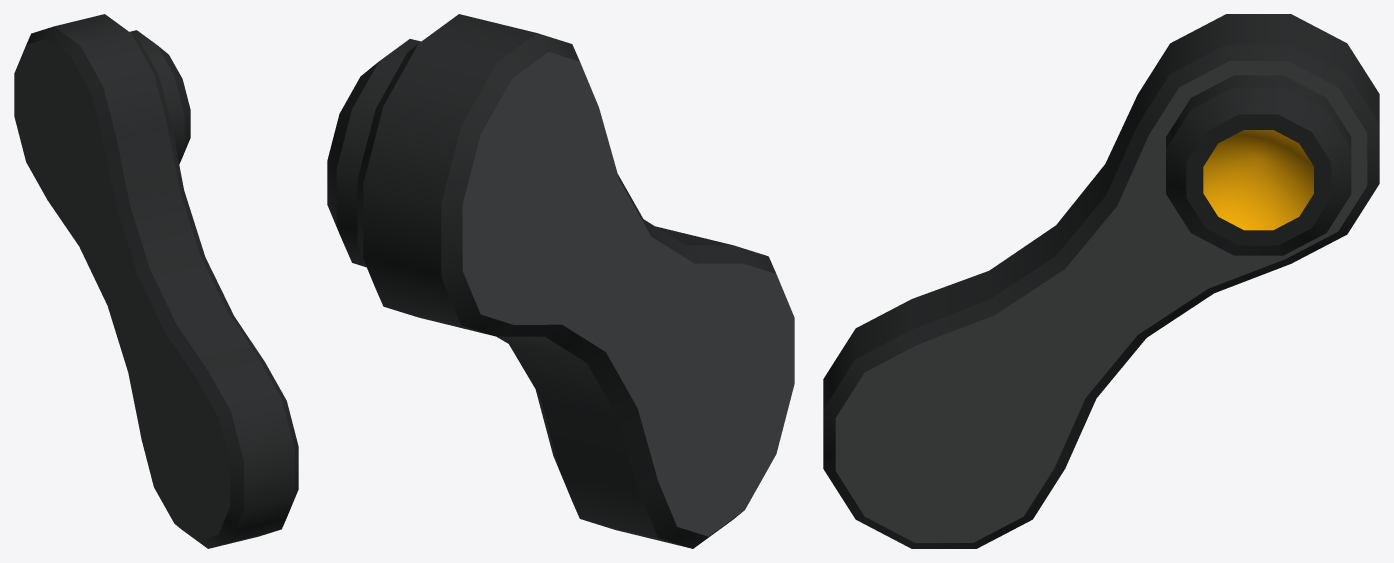
File: Cargo_Drone_001_Leg_002.fbx
The picture shows the model from 3 angles, left to right: view 1: azimuth 30°, elevation 25°; view 2: azimuth 150°, elevation 25°; view 3: azimuth 270°, elevation 25°; orthographic projection. The views are drawn at different scales.
Parts seen in each view (by area): view 1: Cargo_Drone_001_Leg_002; view 2: Cargo_Drone_001_Leg_002; view 3: Cargo_Drone_001_Leg_002.
Boxes of the visible parts, x1,y1,x2,y2 form: Cargo_Drone_001_Leg_002: [14, 14, 298, 548]; Cargo_Drone_001_Leg_002: [327, 14, 794, 548]; Cargo_Drone_001_Leg_002: [823, 14, 1379, 548].
Size of the model in its own units: 8.56 by 32.67 by 32.67.
